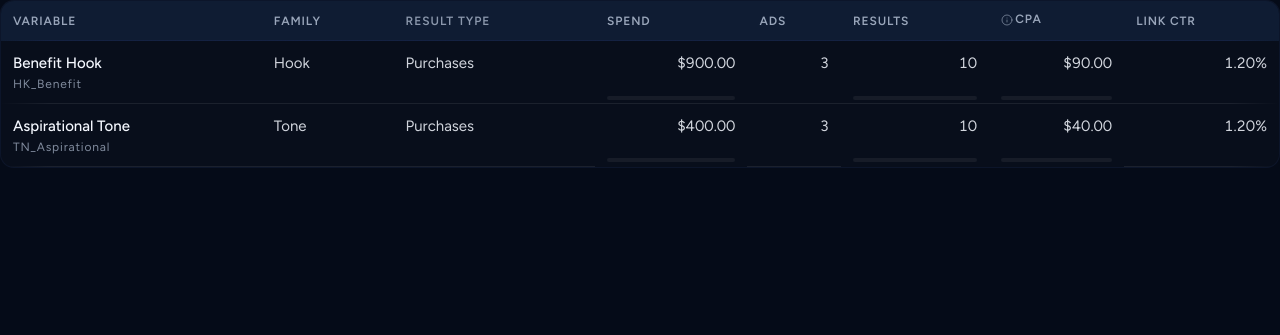
it: VariableTable quick layer › row click opens the pinned quick layer, not the drill-down
Click the button with test id "row-variable-HK_Benefit-0". click: point(57, 63)
box: [1,41,1279,104]
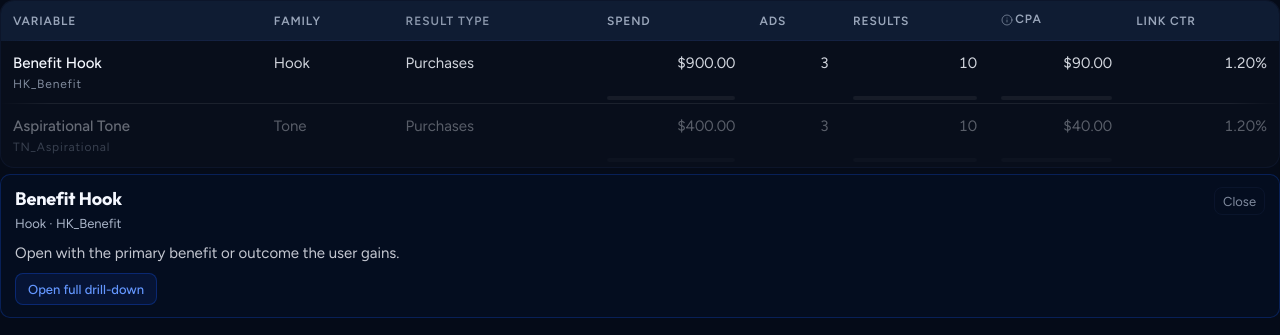
Result: the 2nd text "Benefit Hook" is shown at [15,188,122,210]
Result: the text "Hook · HK_Benefit" is shown at [15,216,121,231]
